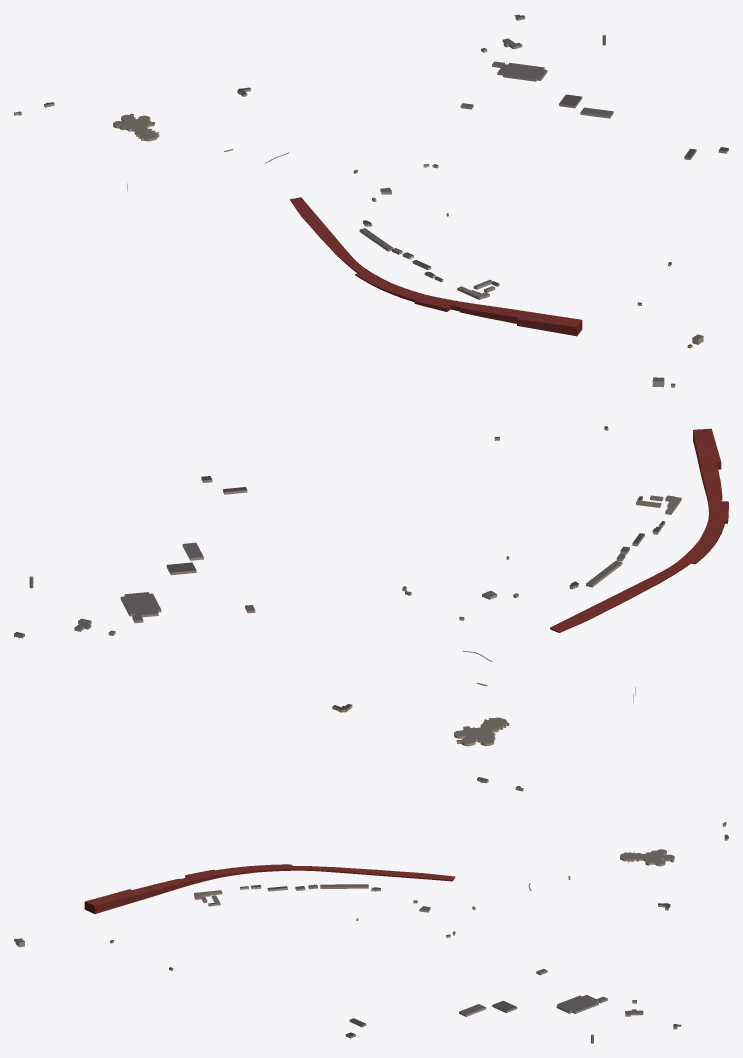
The model's file is scenery.glb.
The picture shows the model from 3 angles, top to bottom: view 1: azimuth 30°, elevation 25°; view 2: azimuth 150°, elevation 25°; view 3: azimuth 270°, elevation 25°; orthographic projection. The views are drawn at different scales.
Visible parts, largest first — view 1: chunk_13_16, chunk_16_13, chunk_13_12; view 2: chunk_13_16, chunk_16_13, chunk_13_12; view 3: chunk_13_16, chunk_16_13, chunk_13_12, chunk_14_15.
Part boxes in pixels (box(x1,y1,x2,y2)): chunk_13_16: box(290, 197, 582, 336); chunk_16_13: box(492, 61, 582, 108); chunk_13_12: box(44, 102, 159, 141); chunk_13_16: box(550, 428, 728, 632); chunk_16_13: box(120, 562, 196, 623); chunk_13_12: box(454, 717, 509, 783); chunk_13_16: box(84, 864, 455, 913); chunk_16_13: box(492, 995, 607, 1013); chunk_13_12: box(620, 834, 728, 866); chunk_14_15: box(267, 884, 380, 920).
Bounding box in the file's own units: 1770 × 40.15 × 2426.
